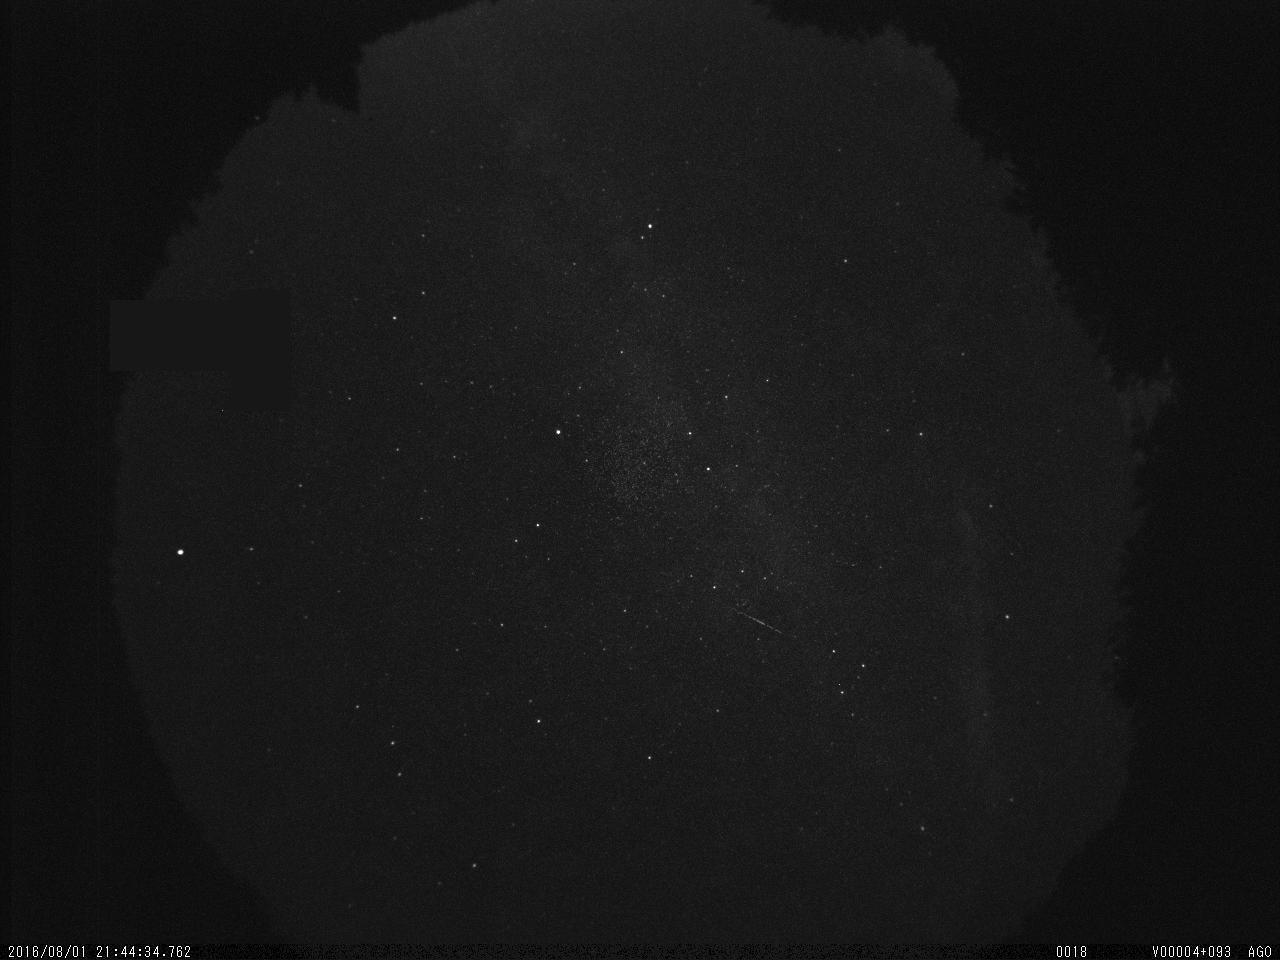meteor: (740, 605, 793, 644)
